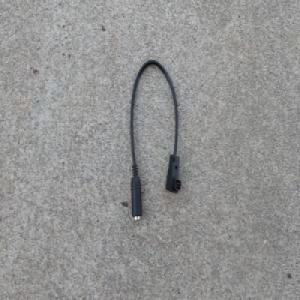Wire: (127, 57, 182, 223)
